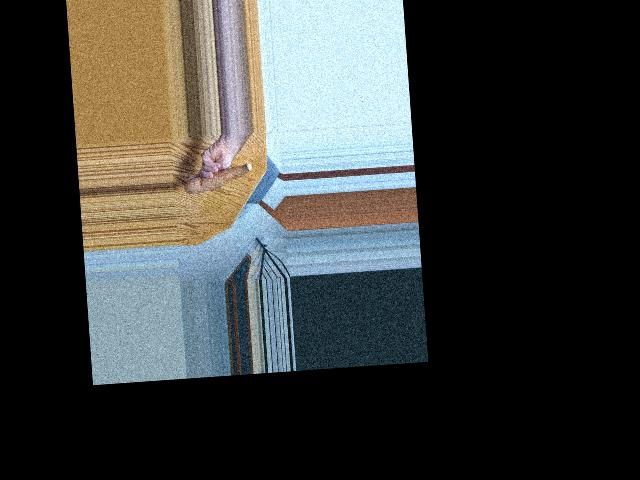sweet_potato: (184, 160, 255, 196)
